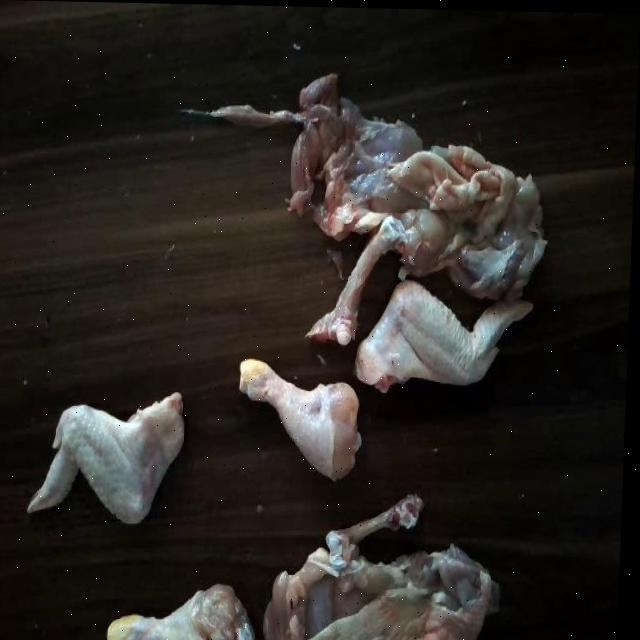leg: (238, 352, 372, 488)
wing: (358, 274, 542, 396), (38, 397, 197, 521)
